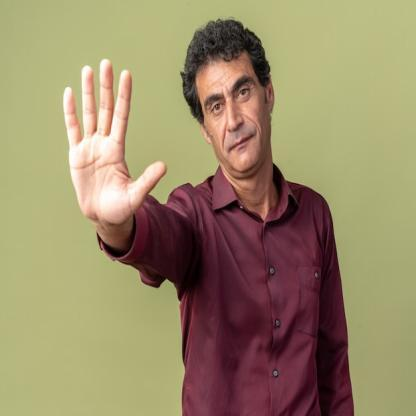stop: (61, 56, 169, 224)
